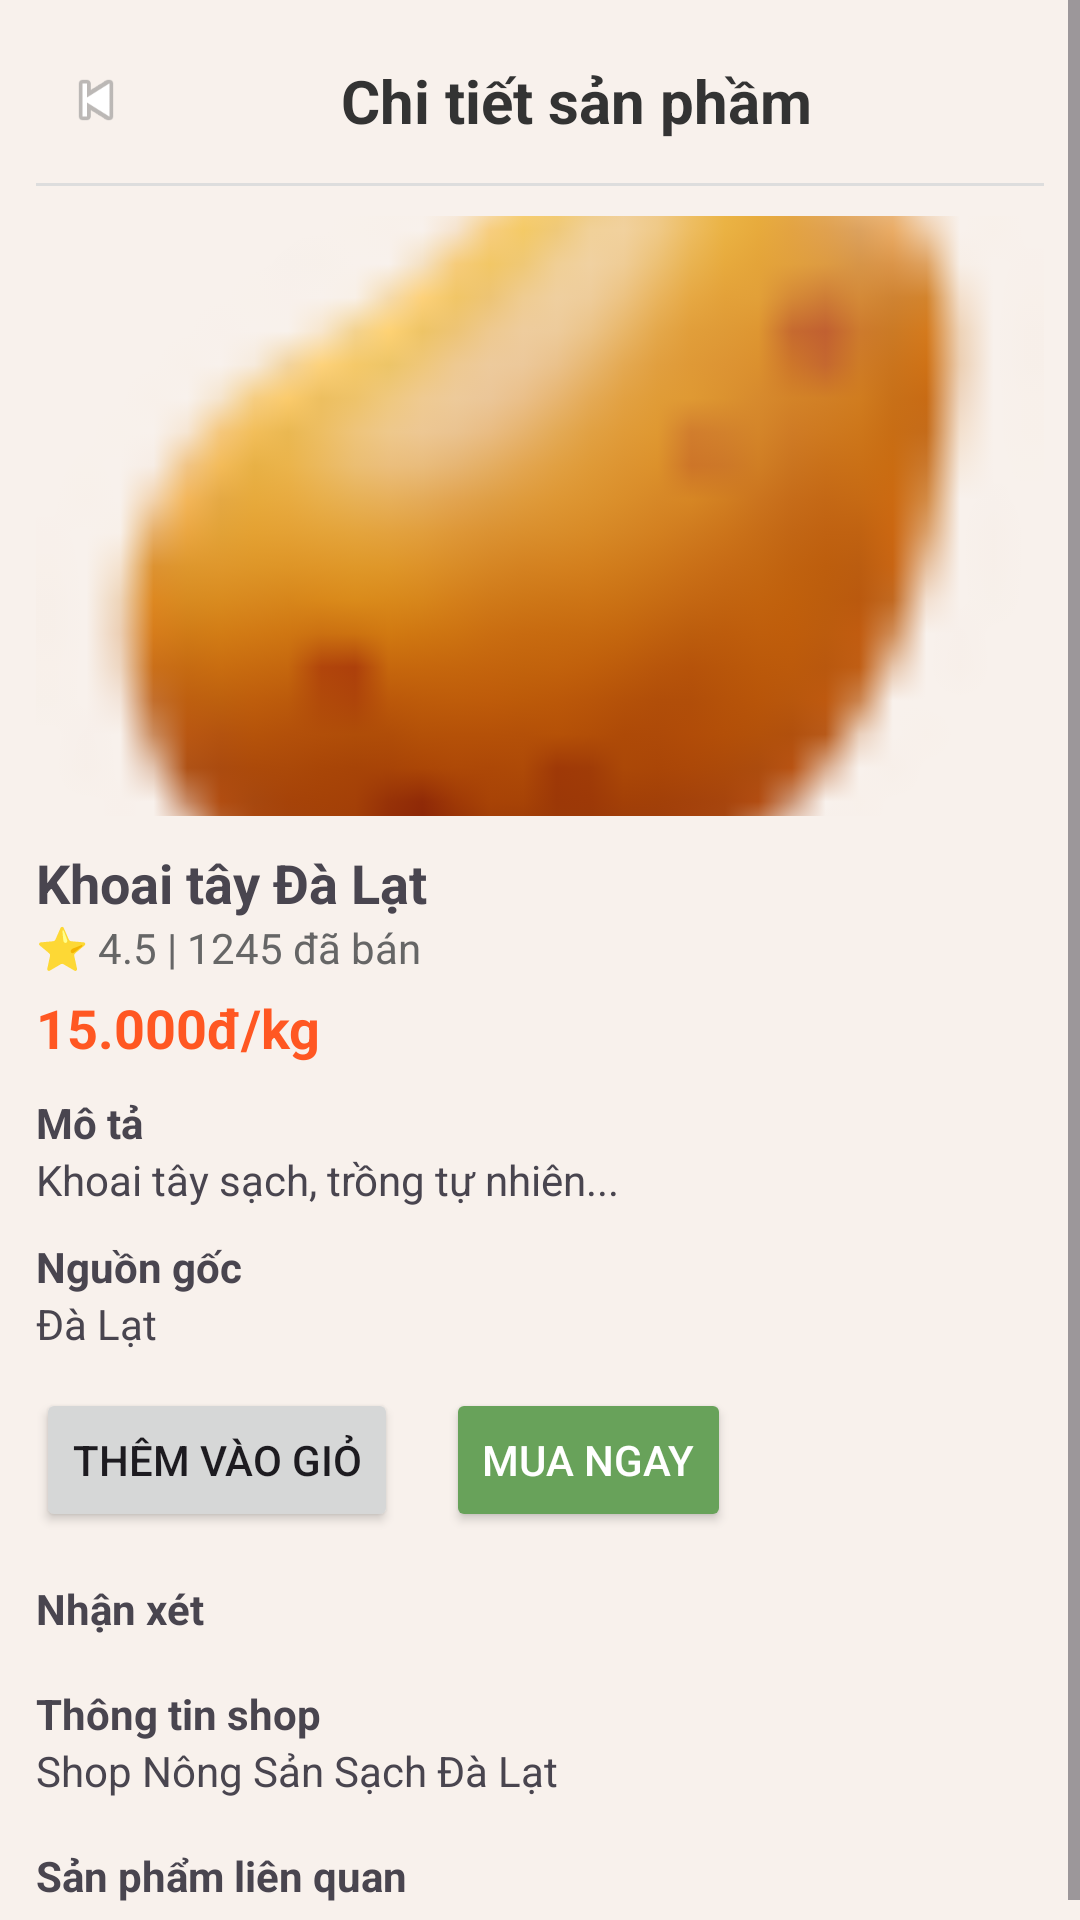

Icons on this 1080*1920 Android screen, each with the point to tap as (x,y):
previous: (96,100)
